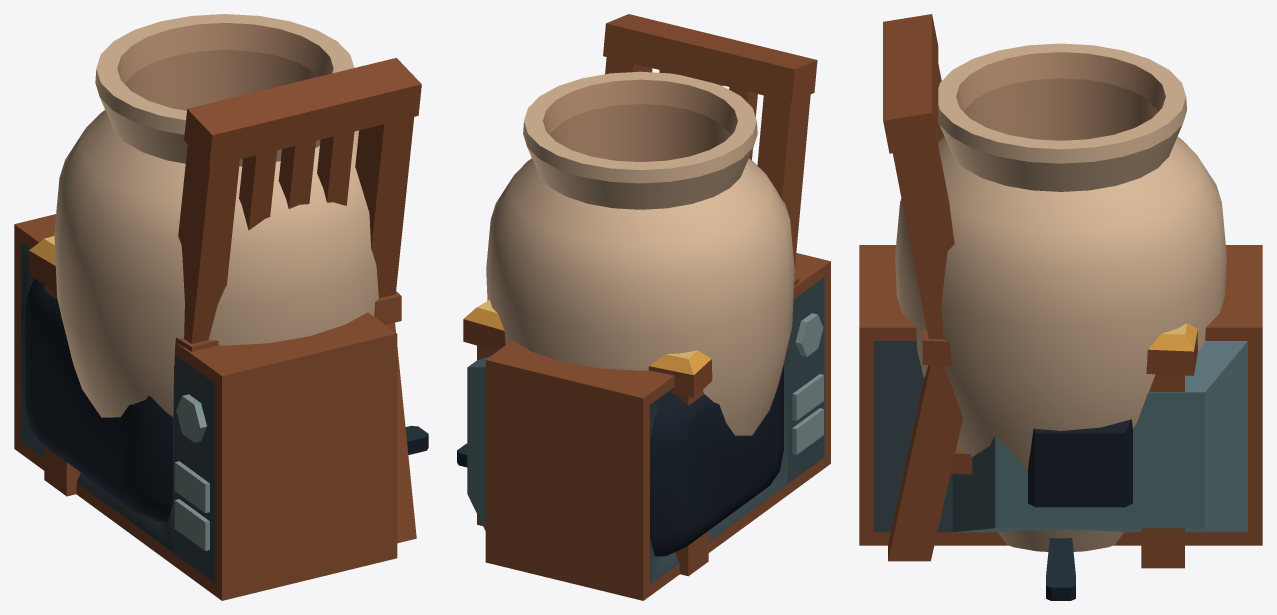
The model's file is Items.fbx.
3 renders of one model, left to right at view 1: azimuth 30°, elevation 25°; view 2: azimuth 150°, elevation 25°; view 3: azimuth 270°, elevation 25°, orthographic. The views are drawn at different scales.
Visible parts, largest first — view 1: Tv, Vase, Cube, Pan; view 2: Vase, Tv, Cube; view 3: Vase, Tv, Cube, Pan.
Part boxes in pixels (x1,y1,x2,y2): Tv: (14,214,397,600); Vase: (54,14,378,417); Cube: (29,58,421,543); Pan: (405,425,428,454); Vase: (486,71,794,435); Tv: (467,253,830,600); Cube: (463,14,817,576); Vase: (895,43,1226,551); Tv: (859,245,1262,545); Cube: (883,14,1197,568); Pan: (1046,538,1075,600).
Size of the model in its own units: 1.13 by 1.18 by 1.46.
